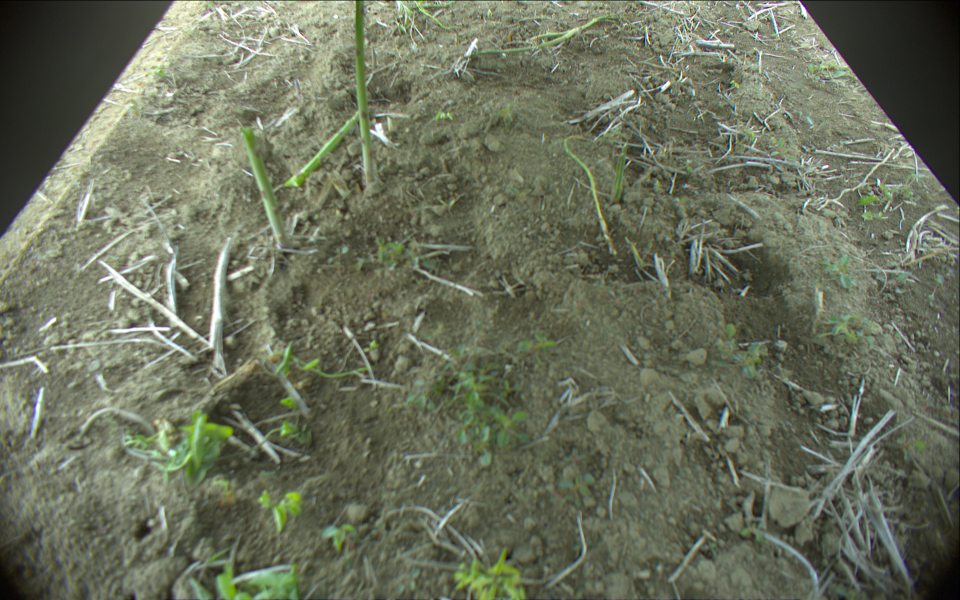aspa: (558, 132, 618, 253), (237, 126, 296, 248), (283, 111, 360, 189), (351, 1, 376, 184), (476, 27, 575, 55), (531, 14, 621, 39)
